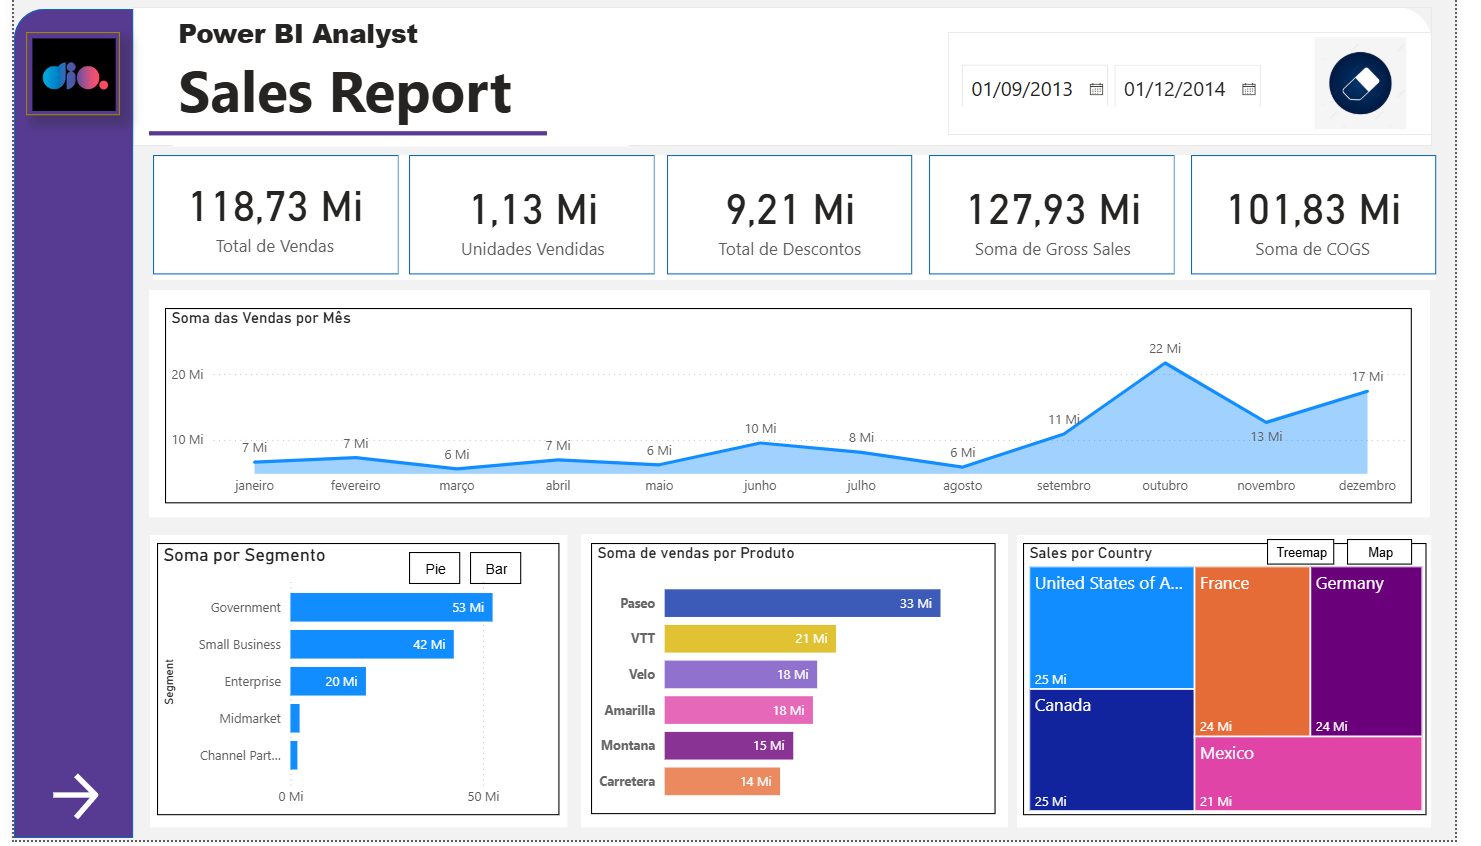

Layout of this report page (visuals, bound fields, positions):
{"tool":"powerbi","page":{"name":"Sales Report","canvas":[1350,800],"ordinal":0},"visuals":[{"type":"image","title":"clean","box":[1195.2,43.2,132.8,96],"z":0,"group":"g1"},{"type":"shape","box":[130,158.3,230.3,111.9],"z":0,"group":"g2"},{"type":"shape","box":[940,514,388,274],"z":0},{"type":"slicer","fields":{"Values":["financials.Date"]},"box":[875.2,64.3,308.8,49.2],"z":1000,"group":"g1"},{"type":"shape","box":[856.9,158.3,230.3,111.9],"z":1000,"group":"g2"},{"type":"map","title":"Sales por Country","fields":{"Size":["Sum(financials. Sales)"],"Category":["financials.Country"]},"box":[945,522,378,254],"z":1000},{"type":"shape","box":[111.7,20,1216.7,130],"z":2000},{"type":"actionButton","box":[1228.8,67.8,65.6,45.7],"z":2000,"group":"g1"},{"type":"shape","box":[370.1,158.3,230.3,111.9],"z":2000,"group":"g2"},{"type":"shape","box":[611.9,158.3,229.7,111.9],"z":3000,"group":"g2"},{"type":"treemap","title":"Sales por Country ","fields":{"Values":["Sum(financials. Sales)"],"Group":["financials.Country"]},"box":[945,522,378,255],"z":3000},{"type":"shape","box":[1102,158.3,229.7,111.9],"z":4000,"group":"g2"},{"type":"actionButton","title":"Treemap","box":[1174,518,63,24],"z":4000},{"type":"card","fields":{"Values":["Sum(financials.Discounts)"]},"box":[623.3,171,205.8,87.7],"z":5000,"group":"g2"},{"type":"shape","box":[127,514,391,274],"z":5000},{"type":"card","fields":{"Values":["Sum(financials.COGS)"]},"box":[1113.4,171,205.8,87.7],"z":6000,"group":"g2"},{"type":"actionButton","title":"Map","box":[1249,518,61,24],"z":6000},{"type":"shape","box":[0,21.7,111.7,776.7],"z":7000},{"type":"card","fields":{"Values":["Sum(financials.Units Sold)"]},"box":[383.2,171,205.8,87.7],"z":7000,"group":"g2"},{"type":"card","fields":{"Values":["Sum(financials. Sales)"]},"box":[141.4,166.4,205.8,92.3],"z":8000,"group":"g2"},{"type":"shape","box":[531.2,513.6,400,275.2],"z":8000},{"type":"image","box":[11.7,43.3,88.3,78.3],"z":9000},{"type":"card","fields":{"Values":["Sum(financials.Gross Sales)"]},"box":[870,171,205.8,87.7],"z":9000,"group":"g2"},{"type":"textbox","box":[148.8,22.4,427.2,128],"z":10000},{"type":"actionButton","box":[30,731.7,53.3,55],"z":11000},{"type":"shape","box":[126.4,107.2,372.8,62.4],"z":12000},{"type":"shape","box":[126.7,285,1200,213.3],"z":13000},{"type":"areaChart","title":"Soma das Vendas por Mês","fields":{"Category":["financials.Date.Variation.Hierarquia de datas.Mês"],"Y":["Sum(financials. Sales)"]},"box":[141.7,301.7,1168.3,183.3],"z":14000},{"type":"clusteredBarChart","title":"Soma de vendas por Produto","fields":{"Y":["Sum(financials. Sales)"],"Category":["financials.Product"]},"box":[540.8,521.6,379.2,254.4],"z":15000},{"type":"group","id":"g1","title":"filtro por data","box":[875.2,43.2,452.8,96],"z":16000},{"type":"group","id":"g2","title":"Cartões","box":[130,158.3,1201.7,116.7],"z":17000},{"type":"barChart","title":"Soma por Segmento","fields":{"Y":["Sum(financials. Sales)"],"Category":["financials.Segment"]},"box":[134,522,377,255],"z":18000},{"type":"actionButton","title":"Pie","box":[370,530,48,30],"z":20000},{"type":"actionButton","title":"Bar","box":[427,530,48,30],"z":21000}]}

Visuals, with their boxes on the page's 1350x800 design canvas (x1, y1, x2, y2). These are canvas units, not pixel positions in the 1481x846 screenshot, which may show the page scaled, cropped or inside an application window:
"clean" image: BBox(1195, 43, 1328, 139)
shape: BBox(130, 158, 360, 270)
shape: BBox(940, 514, 1328, 788)
slicer - financials.Date: BBox(875, 64, 1184, 114)
shape: BBox(857, 158, 1087, 270)
"Sales por Country" map: BBox(945, 522, 1323, 776)
shape: BBox(112, 20, 1328, 150)
actionButton: BBox(1229, 68, 1294, 114)
shape: BBox(370, 158, 600, 270)
shape: BBox(612, 158, 842, 270)
"Sales por Country " treemap: BBox(945, 522, 1323, 777)
shape: BBox(1102, 158, 1332, 270)
"Treemap" actionButton: BBox(1174, 518, 1237, 542)
card - Sum(financials.Discounts): BBox(623, 171, 829, 259)
shape: BBox(127, 514, 518, 788)
card - Sum(financials.COGS): BBox(1113, 171, 1319, 259)
"Map" actionButton: BBox(1249, 518, 1310, 542)
shape: BBox(0, 22, 112, 798)
card - Sum(financials.Units Sold): BBox(383, 171, 589, 259)
card - Sum(financials. Sales): BBox(141, 166, 347, 259)
shape: BBox(531, 514, 931, 789)
image: BBox(12, 43, 100, 122)
card - Sum(financials.Gross Sales): BBox(870, 171, 1076, 259)
textbox: BBox(149, 22, 576, 150)
actionButton: BBox(30, 732, 83, 787)
shape: BBox(126, 107, 499, 170)
shape: BBox(127, 285, 1327, 498)
"Soma das Vendas por Mês" areaChart: BBox(142, 302, 1310, 485)
"Soma de vendas por Produto" clusteredBarChart: BBox(541, 522, 920, 776)
"filtro por data" group: BBox(875, 43, 1328, 139)
"Cartões" group: BBox(130, 158, 1332, 275)
"Soma por Segmento" barChart: BBox(134, 522, 511, 777)
"Pie" actionButton: BBox(370, 530, 418, 560)
"Bar" actionButton: BBox(427, 530, 475, 560)
